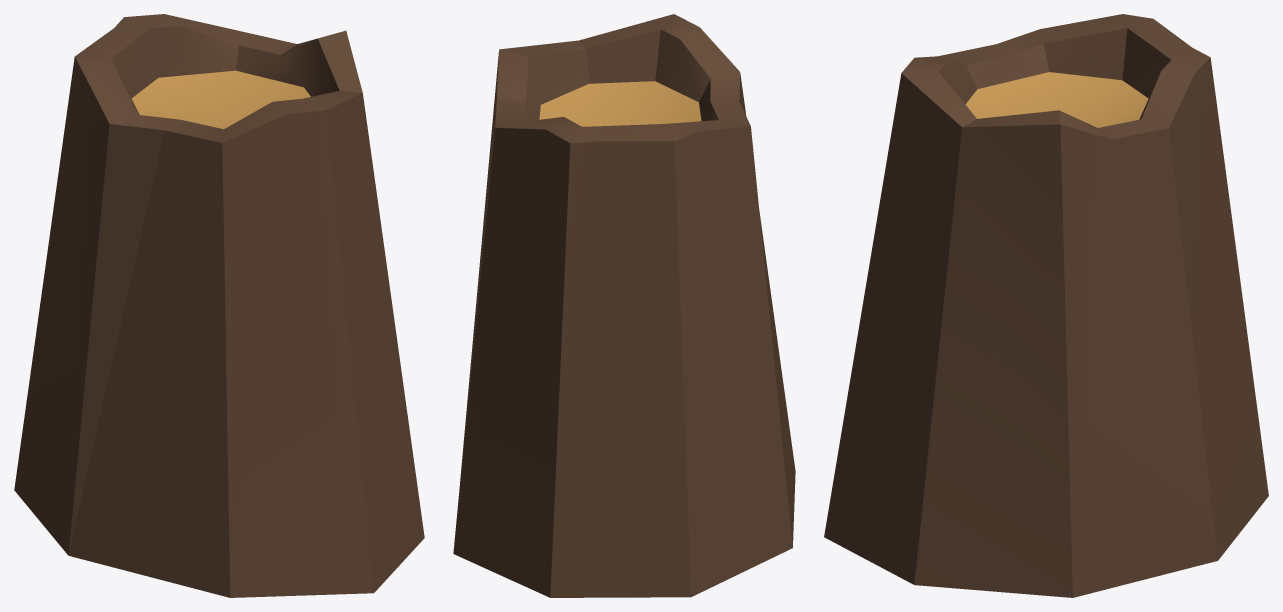
Rendered from tree_4.obj.
The picture shows the model from 3 angles, left to right: view 1: azimuth 30°, elevation 25°; view 2: azimuth 150°, elevation 25°; view 3: azimuth 270°, elevation 25°; orthographic projection. The views are drawn at different scales.
Parts seen in each view (by area): view 1: BroadleafBrokenA; view 2: BroadleafBrokenA; view 3: BroadleafBrokenA.
Boxes of the visible parts, left/top/right/bottom form: BroadleafBrokenA: left=14, top=14, right=424, bottom=597; BroadleafBrokenA: left=453, top=14, right=795, bottom=597; BroadleafBrokenA: left=824, top=14, right=1268, bottom=597.
Bounding box in the file's own units: 0.9524 × 1.29 × 1.13.
